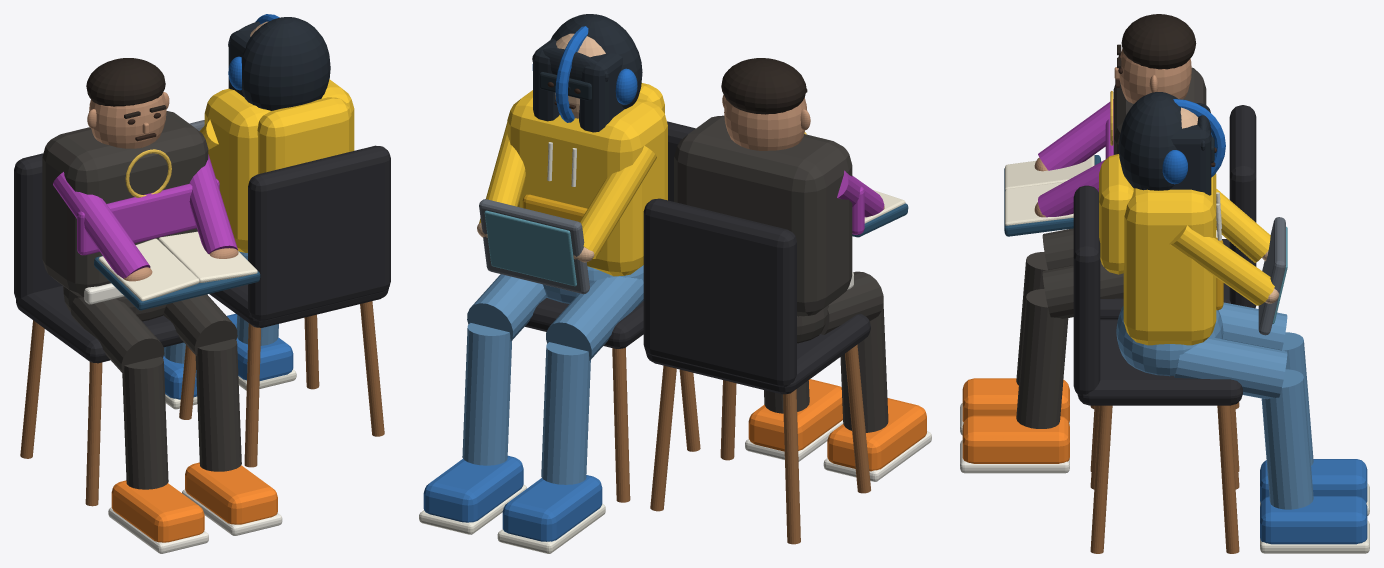
The model's file is students-pair-blockout.glb.
3 renders of one model, left to right at view 1: azimuth 30°, elevation 25°; view 2: azimuth 150°, elevation 25°; view 3: azimuth 270°, elevation 25°, orthographic. The views are drawn at different scales.
Visible parts, largest first — view 1: FEMALE_CHAIR_BACK, MALE_TORSO, FEMALE_HAIR_BACK, FEMALE_TORSO, FEMALE_HOOD, MALE_L_SHIN, MALE_R_SHIN, MALE_CHAIR_BACK, MALE_L_SHOE, MALE_R_SHOE, MALE_PURPLE_CHEST_BAND, MALE_L_THIGH (+25 smaller); view 2: MALE_CHAIR_BACK, MALE_TORSO, FEMALE_TORSO, FEMALE_R_SHIN, FEMALE_L_SHIN, FEMALE_TABLET_SCREEN, FEMALE_R_SHOE, FEMALE_L_SHOE, FEMALE_R_THIGH, MALE_HAIR, MALE_CHAIR_SEAT, MALE_L_SHOE (+32 smaller); view 3: FEMALE_TORSO, FEMALE_CHAIR_SEAT, FEMALE_CHAIR_BACK, FEMALE_L_SHIN, MALE_R_SHIN, FEMALE_L_SHOE, MALE_R_SHOE, FEMALE_HAIR_BACK, FEMALE_L_THIGH, MALE_CHAIR_BACK, MALE_HAIR, FEMALE_ARM_L (+26 smaller).
Boxes of the visible parts, x1,y1,x2,y2 form: FEMALE_CHAIR_BACK: (248, 145, 390, 320); MALE_TORSO: (42, 111, 208, 296); FEMALE_HAIR_BACK: (241, 17, 330, 110); FEMALE_TORSO: (204, 79, 354, 252); FEMALE_HOOD: (257, 97, 351, 174); MALE_L_SHIN: (122, 356, 168, 489); MALE_R_SHIN: (195, 339, 241, 471); MALE_CHAIR_BACK: (14, 153, 62, 299); MALE_L_SHOE: (111, 480, 204, 542); MALE_R_SHOE: (185, 462, 277, 524); MALE_PURPLE_CHEST_BAND: (77, 178, 219, 255); MALE_L_THIGH: (71, 297, 164, 373); MALE_CHAIR_BACK: (643, 198, 796, 386); MALE_TORSO: (674, 115, 852, 316); FEMALE_TORSO: (507, 90, 667, 276); FEMALE_R_SHIN: (541, 342, 590, 484); FEMALE_L_SHIN: (462, 323, 511, 465); FEMALE_TABLET_SCREEN: (484, 210, 576, 286); FEMALE_R_SHOE: (502, 475, 602, 541); FEMALE_L_SHOE: (423, 455, 523, 522); FEMALE_R_THIGH: (546, 276, 643, 360); MALE_HAIR: (721, 58, 806, 114); MALE_CHAIR_SEAT: (645, 313, 870, 394); MALE_L_SHOE: (827, 398, 926, 471); FEMALE_TORSO: (1123, 173, 1216, 345); FEMALE_CHAIR_SEAT: (1077, 319, 1242, 405); FEMALE_CHAIR_BACK: (1073, 185, 1100, 395); FEMALE_L_SHIN: (1261, 369, 1313, 509); MALE_R_SHIN: (1016, 289, 1068, 428); FEMALE_L_SHOE: (1260, 496, 1367, 544); MALE_R_SHOE: (962, 415, 1069, 463); FEMALE_HAIR_BACK: (1118, 92, 1181, 190); FEMALE_L_THIGH: (1174, 337, 1287, 399); MALE_CHAIR_BACK: (1229, 105, 1256, 308); MALE_HAIR: (1121, 14, 1196, 69); FEMALE_ARM_L: (1169, 225, 1274, 305).
Bounding box in the file's own units: 1.49 × 1.94 × 1.68.
